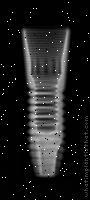DENTSPLY: (13, 25, 72, 180)
